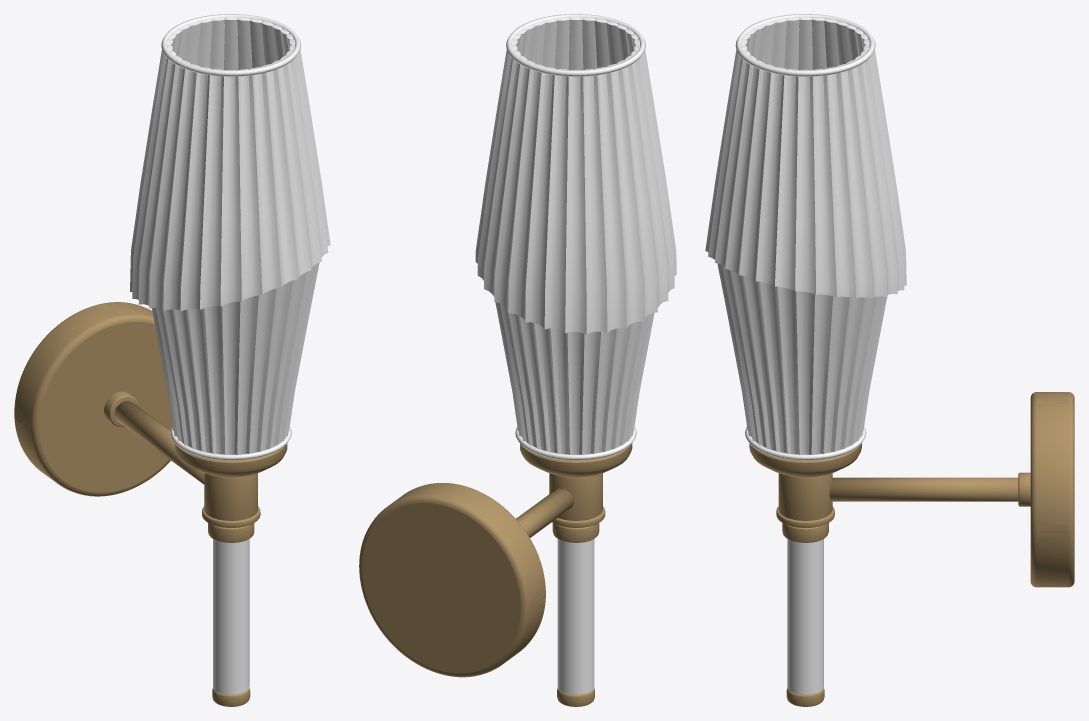
The picture shows the model from 3 angles, left to right: view 1: azimuth 30°, elevation 25°; view 2: azimuth 150°, elevation 25°; view 3: azimuth 270°, elevation 25°; orthographic projection.
Visible parts, largest first — view 1: glass, brass; view 2: glass, brass; view 3: glass, brass.
Part boxes in pixels (x1=…): glass: x1=130, y1=14, x2=330, y2=694; brass: x1=14, y1=302, x2=287, y2=706; glass: x1=475, y1=14, x2=676, y2=694; brass: x1=359, y1=443, x2=632, y2=706; glass: x1=705, y1=14, x2=906, y2=694; brass: x1=749, y1=392, x2=1074, y2=706.
Size of the model in its own units: 0.082 by 0.2966 by 0.151.
5 materials, 4 textured.
